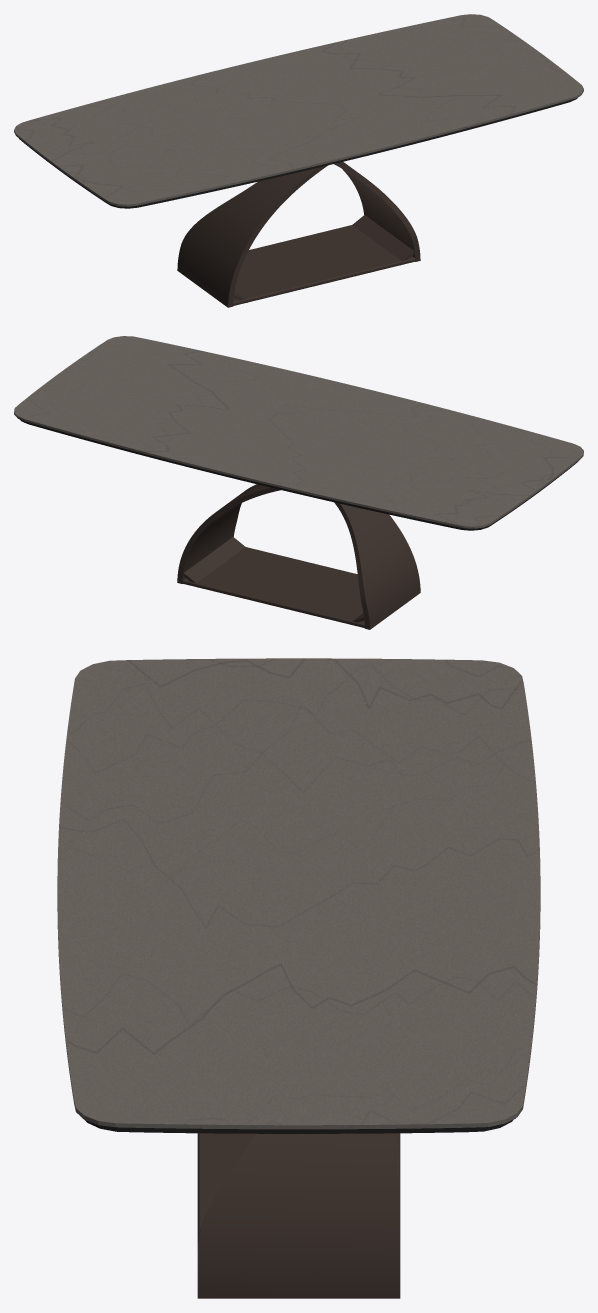
The model's file is ownHeart.glb.
The picture shows the model from 3 angles, top to bottom: view 1: azimuth 30°, elevation 25°; view 2: azimuth 150°, elevation 25°; view 3: azimuth 270°, elevation 25°; orthographic projection. The views are drawn at different scales.
Bounding box in the file's own units: 2.4 × 0.7517 × 1.05.
3 materials, 1 textured.
